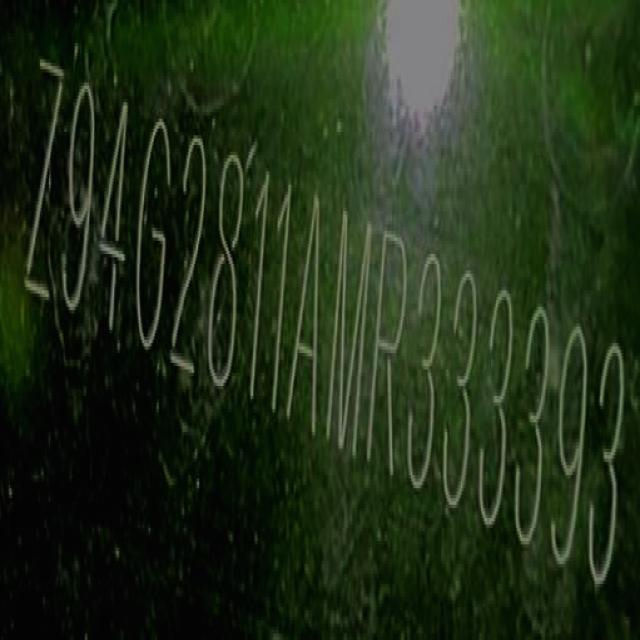1: (243, 160, 281, 420), (261, 166, 295, 432)
2: (168, 119, 214, 394)
3: (404, 239, 448, 506), (513, 292, 555, 563), (440, 256, 482, 525), (478, 274, 519, 543), (592, 329, 629, 597)
4: (93, 83, 141, 351)
8: (202, 138, 248, 405)
9: (58, 67, 104, 332), (549, 306, 590, 580)
A: (287, 179, 333, 449)
G: (127, 102, 177, 372)
M: (322, 197, 374, 476)
R: (366, 211, 414, 485)
Z: (20, 53, 70, 314)
